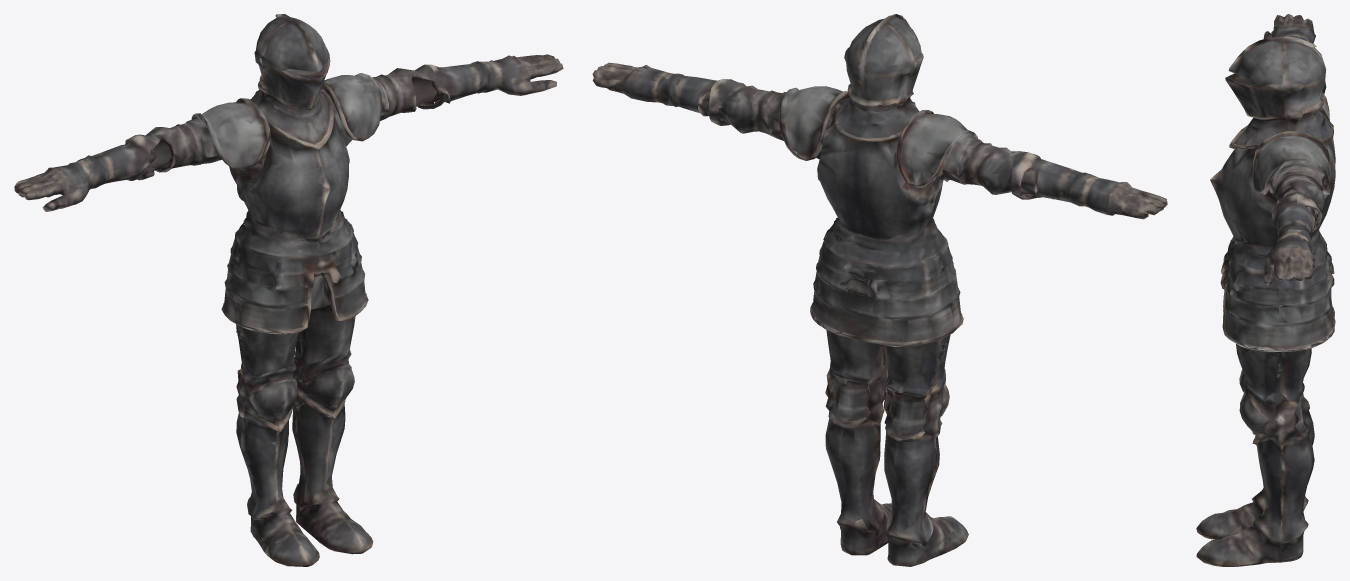
File: plate-suit-20k-v8.glb
3 views of the same model, side by side, from view 1: azimuth 30°, elevation 25°; view 2: azimuth 150°, elevation 25°; view 3: azimuth 270°, elevation 25° (orthographic). The views are drawn at different scales.
Parts seen in each view (by area): view 1: plate-suit-20k-pre; view 2: plate-suit-20k-pre; view 3: plate-suit-20k-pre.
Boxes of the visible parts, x1=… form: plate-suit-20k-pre: x1=14, y1=14, x2=563, y2=566; plate-suit-20k-pre: x1=592, y1=14, x2=1167, y2=566; plate-suit-20k-pre: x1=1196, y1=14, x2=1335, y2=566.
Bounding box in the file's own units: 1 × 0.9037 × 0.2251.
1 material, 1 textured.
